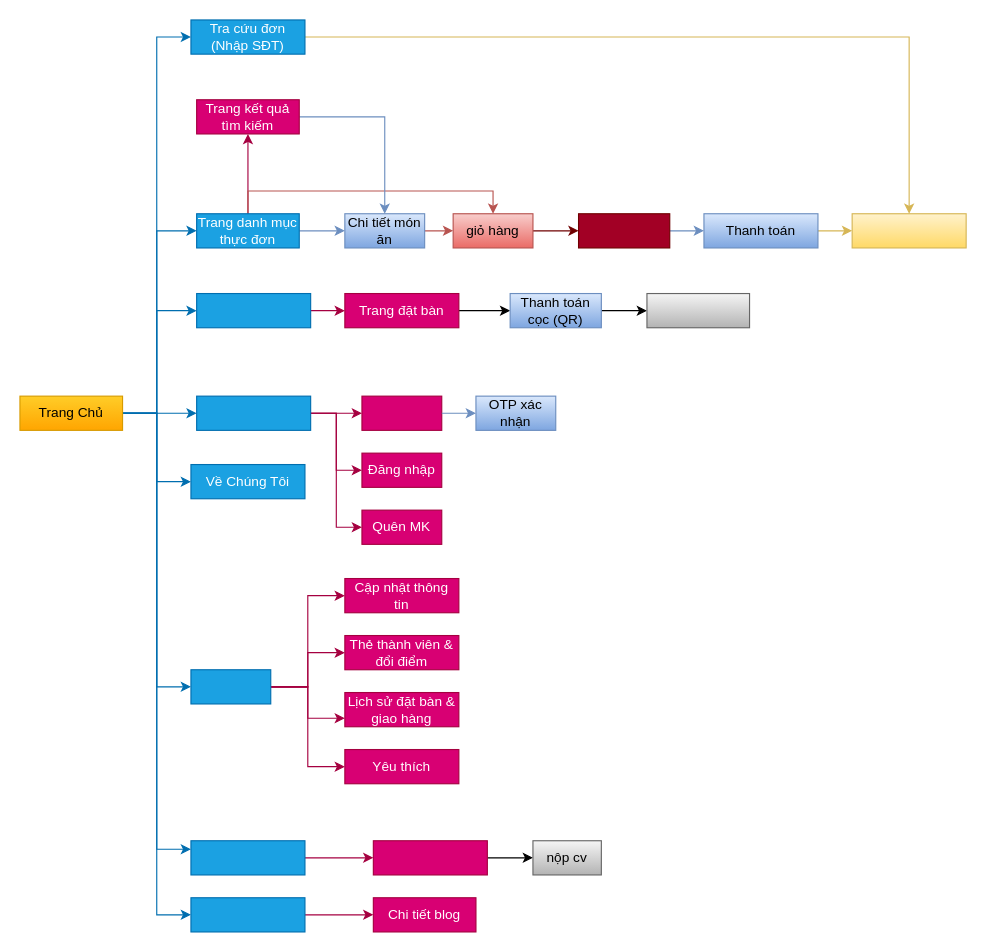
The diagram is 986 pixels wide and 952 high, and some of its shapes have lost their labels. Each missing label, with the centre of its shape:
Blog: (247,914)
Các vị trí cần tuyển: (429,857)
Mua hàng: (623,230)
Thồng tin đơn hàng: (908,230)
Trang cá nhân: (230,686)
Tuyển Dụng: (247,857)
Xác nhận hoàn tất: (698,310)
Đăng kí: (401,412)
Đăng nhập/Đăng kí: (253,412)
Đặt Bàn: (253,310)
